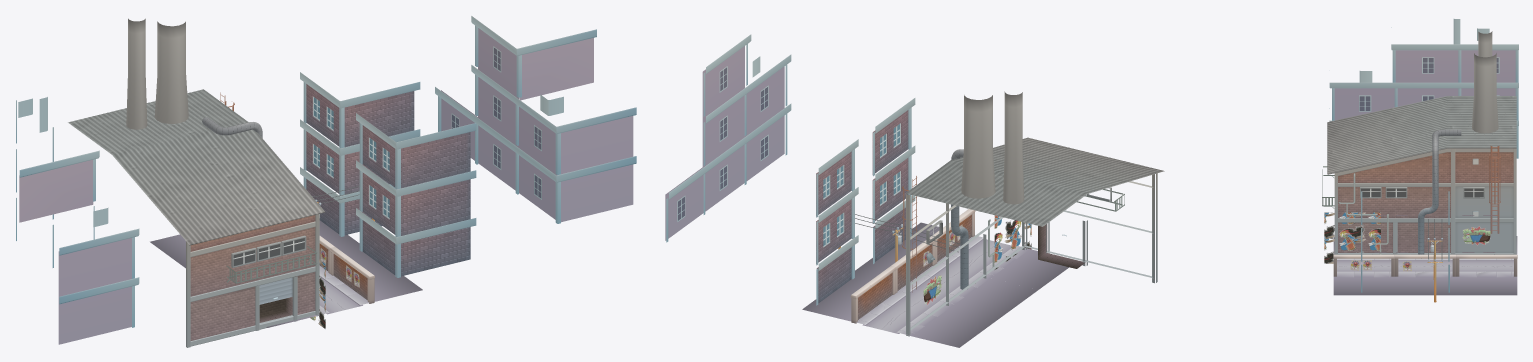
Rendered from IndustrialWarehouseUp.prefab.glb.
3 views of the same model, side by side, from view 1: azimuth 30°, elevation 25°; view 2: azimuth 150°, elevation 25°; view 3: azimuth 270°, elevation 25° (orthographic). The views are drawn at different scales.
Parts seen in each view (by area): view 1: Warehouse02, FarBackBuilding03, BackgroundBuilding02, BackgroundBuilding02 (1), IndustrialWarehouseUp, BrickWall, Road02 (1), Road02; view 2: Warehouse02, FarBackBuilding03, BackgroundBuilding02 (1), BackgroundBuilding02, Road02 (1), Road02, IndustrialWarehouseUp, BrickWall (2), BrickWall (1), Graffiti01, BrickWall; view 3: Warehouse02, FarBackBuilding03, Road02 (1), IndustrialWarehouseUp, Road02, Graffiti01, BrickWall (1), BrickWall (2), BrickWall, Graffiti10, BackgroundBuilding02 (1), BackgroundBuilding02 (+1 smaller).
Boxes of the visible parts, x1=… form: Warehouse02: x1=68, y1=18, x2=324, y2=347; FarBackBuilding03: x1=16, y1=16, x2=636, y2=344; BackgroundBuilding02: x1=356, y1=113, x2=476, y2=277; BackgroundBuilding02 (1): x1=300, y1=72, x2=420, y2=236; IndustrialWarehouseUp: x1=266, y1=263, x2=422, y2=327; BrickWall: x1=330, y1=247, x2=374, y2=303; Road02 (1): x1=150, y1=220, x2=337, y2=268; Road02: x1=319, y1=234, x2=377, y2=277; Warehouse02: x1=902, y1=91, x2=1164, y2=336; FarBackBuilding03: x1=665, y1=34, x2=791, y2=242; BackgroundBuilding02 (1): x1=816, y1=139, x2=858, y2=305; BackgroundBuilding02: x1=872, y1=98, x2=915, y2=263; Road02 (1): x1=802, y1=282, x2=998, y2=347; Road02: x1=848, y1=253, x2=1037, y2=318; IndustrialWarehouseUp: x1=888, y1=222, x2=1068, y2=289; BrickWall (2): x1=850, y1=266, x2=895, y2=323; BrickWall (1): x1=891, y1=237, x2=935, y2=292; Graffiti01: x1=994, y1=215, x2=1031, y2=269; BrickWall: x1=931, y1=209, x2=975, y2=264; Warehouse02: x1=1322, y1=31, x2=1516, y2=258; FarBackBuilding03: x1=1329, y1=19, x2=1518, y2=158; Road02 (1): x1=1456, y1=236, x2=1517, y2=295; IndustrialWarehouseUp: x1=1333, y1=237, x2=1394, y2=295; Road02: x1=1394, y1=258, x2=1455, y2=295; Graffiti01: x1=1324, y1=212, x2=1380, y2=263; BrickWall (1): x1=1394, y1=254, x2=1455, y2=276; BrickWall (2): x1=1456, y1=254, x2=1517, y2=276; BrickWall: x1=1333, y1=254, x2=1394, y2=276; Graffiti10: x1=1462, y1=226, x2=1490, y2=245; BackgroundBuilding02 (1): x1=1448, y1=191, x2=1495, y2=292; BackgroundBuilding02: x1=1361, y1=191, x2=1407, y2=292.
Size of the model in its own units: 76.34 by 32.75 by 28.94.
Materials: 10 (9 with a texture image).
